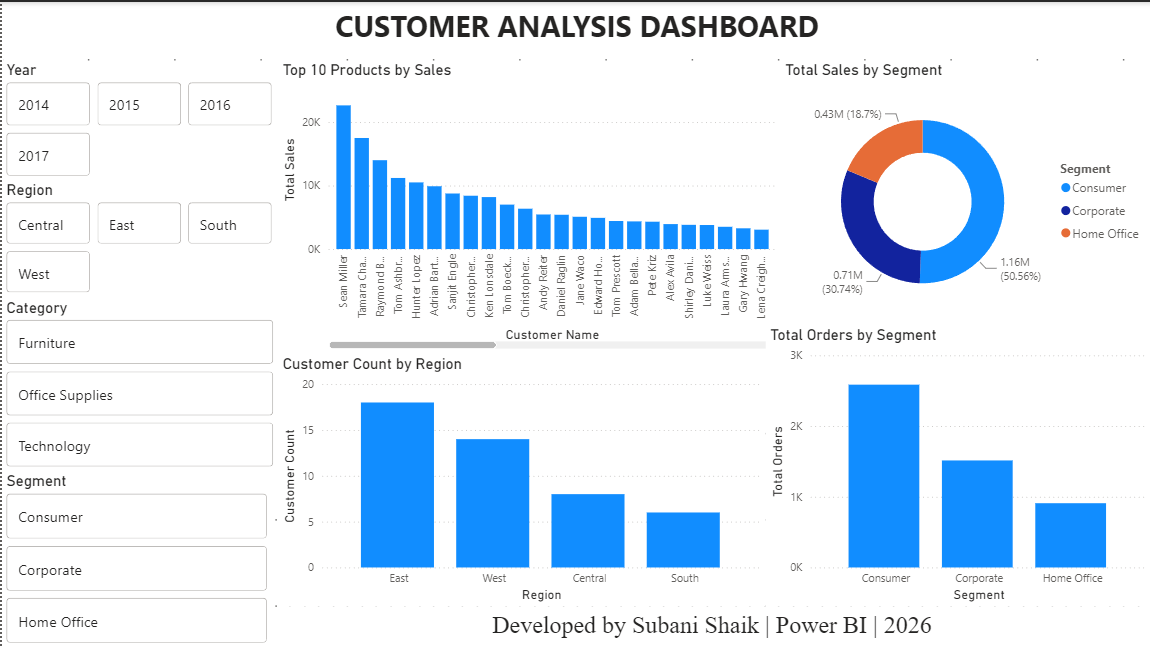

The page's visual inventory and layout, read from the dashboard file:
{"tool":"powerbi","page":{"name":"Customer Analysis","canvas":[1280,720],"ordinal":2},"visuals":[{"type":"textbox","box":[0,0,1280,55.7],"z":0},{"type":"clusteredColumnChart","title":"Top 10 Products by Sales","fields":{"Y":["Superstore.Total Sales"],"Category":["Superstore.Customer Name"]},"box":[307.5,65.4,559.3,325.6],"z":1000},{"type":"donutChart","fields":{"Y":["Superstore.Total Sales"],"Category":["Superstore.Segment"]},"box":[866.8,65.4,413.2,295],"z":2000},{"type":"clusteredColumnChart","fields":{"Y":["Superstore.Total Orders"],"Category":["Superstore.Segment"]},"box":[850.1,360.3,429.9,313],"z":3000},{"type":"clusteredColumnChart","fields":{"Category":["Superstore.Region"],"Y":["Superstore.Customer Count"]},"box":[307.5,392.3,542.6,281],"z":4000},{"type":"advancedSlicerVisual","fields":{"Values":["Superstore.Year"]},"box":[0,65.4,307.5,133.6],"z":5000},{"type":"advancedSlicerVisual","fields":{"Values":["Superstore.Region"]},"box":[0,199,307.5,130.8],"z":6000},{"type":"advancedSlicerVisual","fields":{"Values":["Superstore.Category"]},"box":[0,329.7,307.5,193.4],"z":7000},{"type":"advancedSlicerVisual","fields":{"Values":["Superstore.Segment"]},"box":[0,523.1,300.5,197.6],"z":8000},{"type":"textbox","box":[300.5,673.4,979.5,47.3],"z":9000}]}

Visuals, with their boxes in screenshot pixels (x1, y1, x2, y2), scaled from the page's 1280x720 canvas onto the 1150x646 screenshot:
textbox: <box>0,0,1149,50</box>
"Top 10 Products by Sales" clusteredColumnChart: <box>276,59,779,351</box>
donutChart - Superstore.Total Sales x Superstore.Segment: <box>779,59,1149,323</box>
clusteredColumnChart - Superstore.Total Orders x Superstore.Segment: <box>764,323,1149,604</box>
clusteredColumnChart - Superstore.Region x Superstore.Customer Count: <box>276,352,764,604</box>
advancedSlicerVisual - Superstore.Year: <box>0,59,276,179</box>
advancedSlicerVisual - Superstore.Region: <box>0,179,276,296</box>
advancedSlicerVisual - Superstore.Category: <box>0,296,276,469</box>
advancedSlicerVisual - Superstore.Segment: <box>0,469,270,645</box>
textbox: <box>270,604,1149,645</box>
